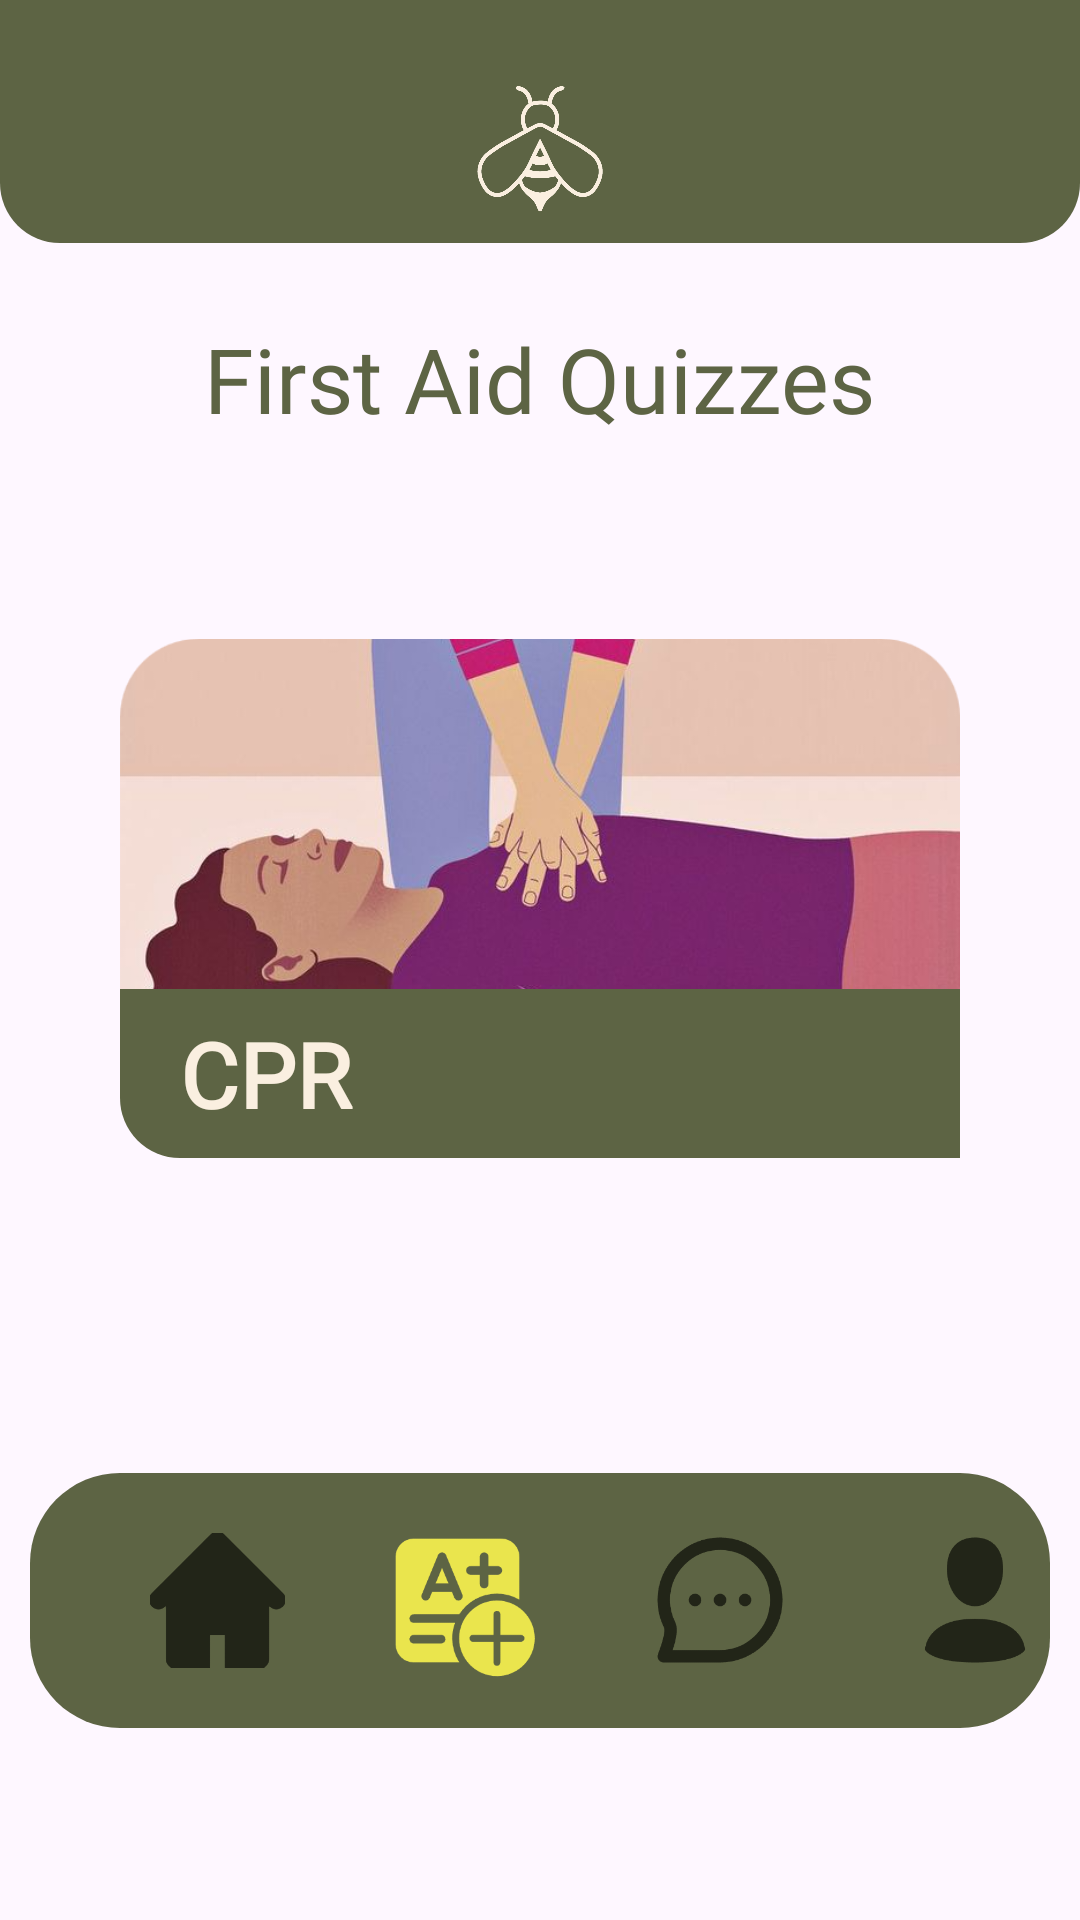

Named icons in this screenshot (1080×1920) and their centers, (x=x, y=y):
home: (x=217, y=1600)
messages: (x=720, y=1600)
profile: (x=975, y=1600)
quiz: (x=465, y=1607)
